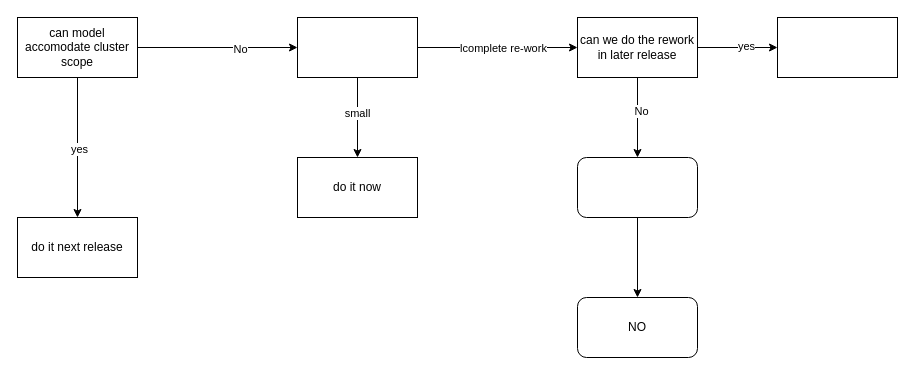
This 915x375 diagram has some shape labels left out. The shapes that lost their labels are listed below. From the top down, each one's centre as x and y in pixels, then its label:
At [357,47]: "evaluate effort needed".
At [637,187]: "have time to do it in this release".
